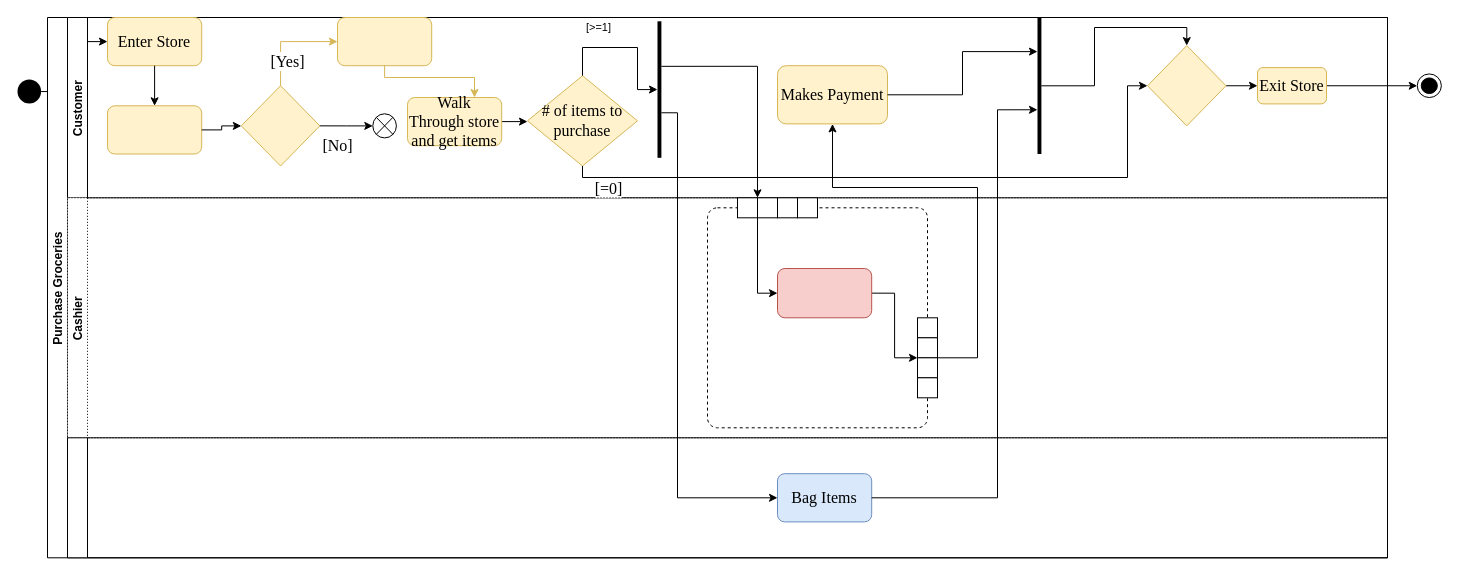
The diagram is 1459 pixels wide and 576 high, and some of its shapes have lost their labels. The box of each missing label's shape, as (x1, y1, x2, y2) in pixels:
Bagger: (66, 437, 1388, 558)
Check for sufficient funds: (106, 105, 202, 154)
Get Cart or Basket: (336, 16, 432, 66)
Scans items for payment: (776, 268, 872, 318)
Sufficient Funds: (240, 85, 320, 166)
